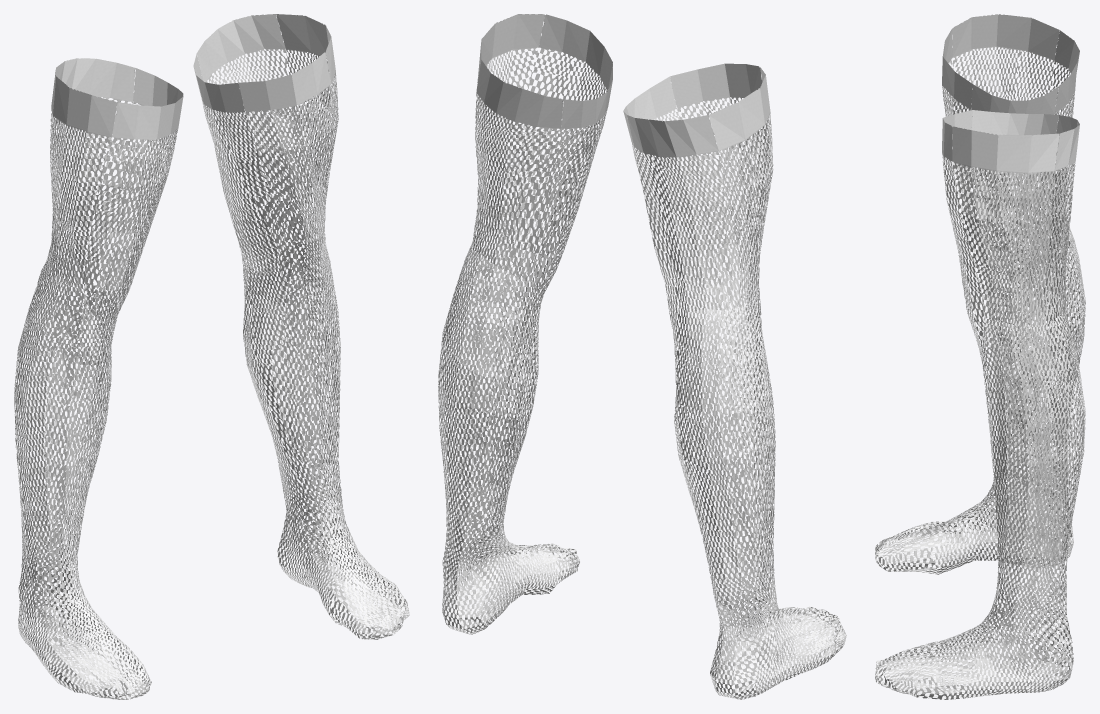
File: mhw_v0rt3x_stockings_white_fishnet_small.glb
The picture shows the model from 3 angles, left to right: view 1: azimuth 30°, elevation 25°; view 2: azimuth 150°, elevation 25°; view 3: azimuth 270°, elevation 25°; orthographic projection. The views are drawn at different scales.
Parts seen in each view (by area): view 1: mhw_v0rt3x_stockings_white_fishnet_small; view 2: mhw_v0rt3x_stockings_white_fishnet_small; view 3: mhw_v0rt3x_stockings_white_fishnet_small.
Part boxes in pixels (left/top/right/bottom): mhw_v0rt3x_stockings_white_fishnet_small: left=14, top=14, right=409, bottom=699; mhw_v0rt3x_stockings_white_fishnet_small: left=438, top=14, right=846, bottom=699; mhw_v0rt3x_stockings_white_fishnet_small: left=875, top=14, right=1085, bottom=699.
Bounding box in the file's own units: 0.545 × 0.8774 × 0.3031.
Materials: 1 (1 with a texture image).
